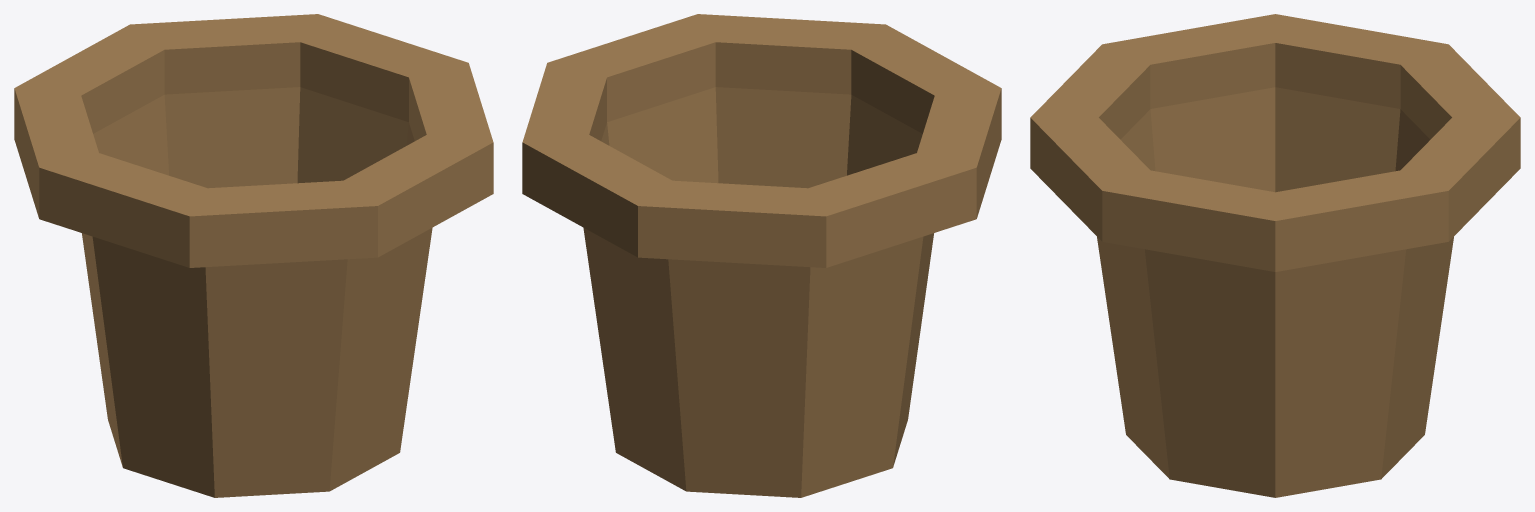
The model's file is bucket_01_b.fbx.
3 views of the same model, side by side, from view 1: azimuth 30°, elevation 25°; view 2: azimuth 150°, elevation 25°; view 3: azimuth 270°, elevation 25° (orthographic).
Parts seen in each view (by area): view 1: Bucket_01_b; view 2: Bucket_01_b; view 3: Bucket_01_b.
Part boxes in pixels (<box>): Bucket_01_b: <box>14,14,493,497</box>; Bucket_01_b: <box>522,14,1001,497</box>; Bucket_01_b: <box>1030,14,1520,497</box>.
Bounding box in the file's own units: 14.85 × 14.85 × 10.61.
